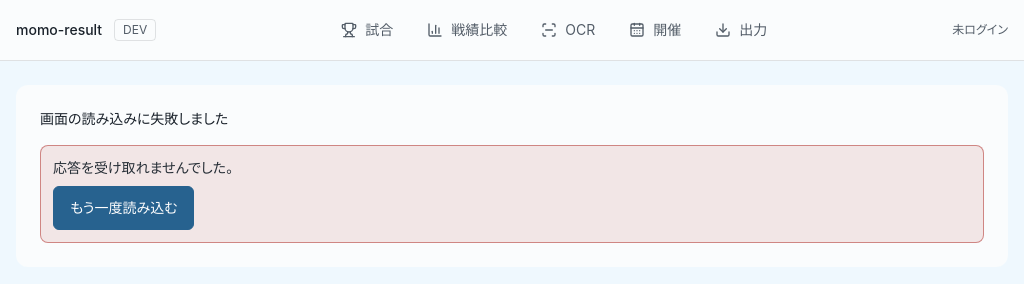
AppShell › resets the query and route error boundary together on retry
The image size is (1024, 284).
Click the button "もう一度読み込む": [124, 208] box [53, 186, 194, 230]
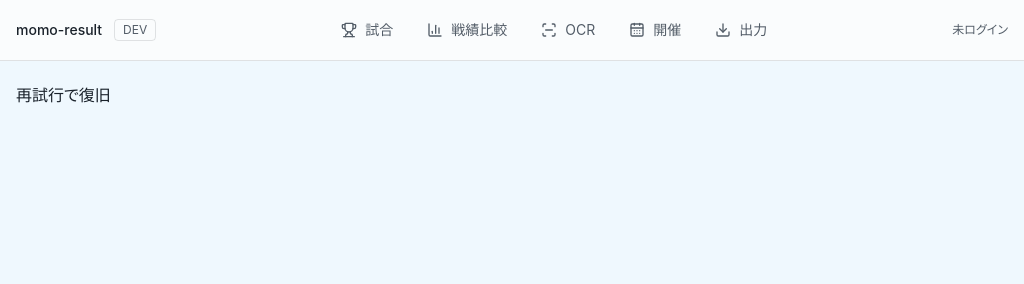
Expected: the heading "再試行で復旧" is shown, [16, 85, 111, 105]
